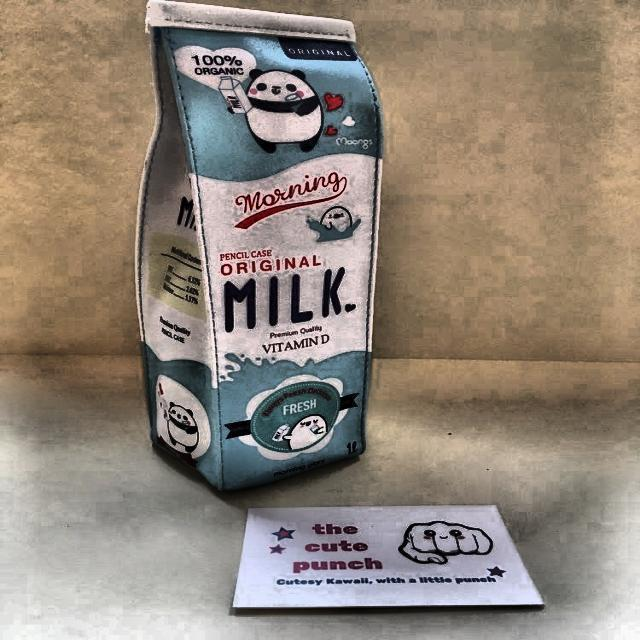cardboard: (134, 1, 383, 491)
